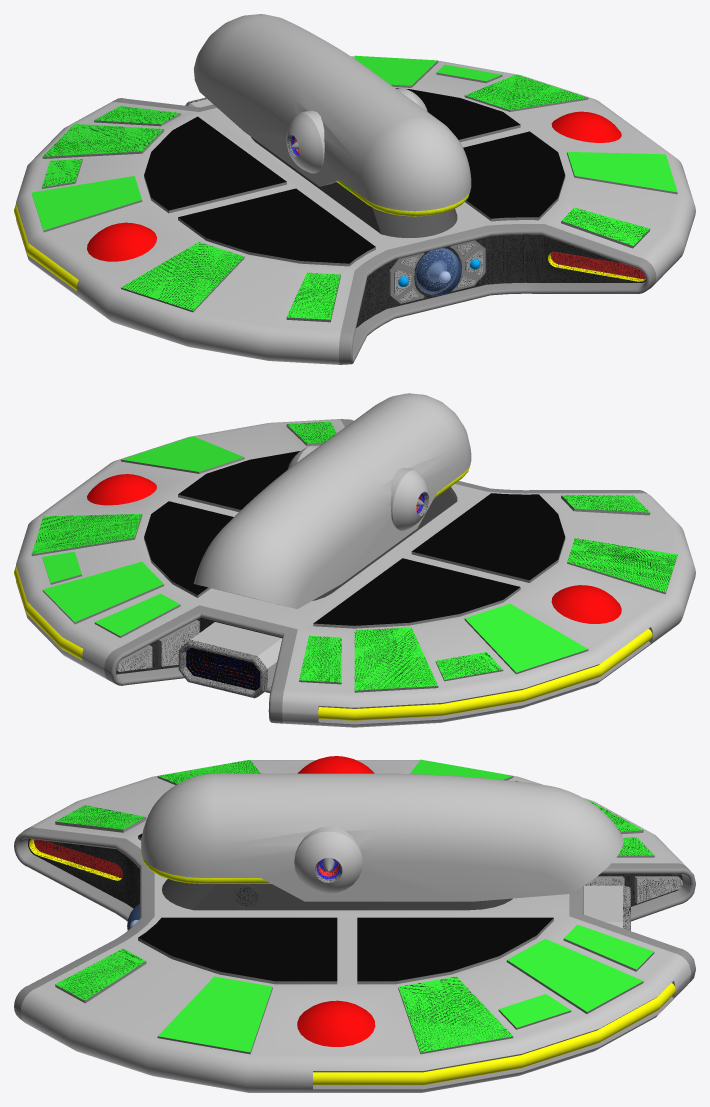
Rendered from greenAlien.dae.
3 views of the same model, one above another, from view 1: azimuth 30°, elevation 25°; view 2: azimuth 150°, elevation 25°; view 3: azimuth 270°, elevation 25° (orthographic). The views are drawn at different scales.
Visible parts, largest first — view 1: SketchUp (×30); view 2: SketchUp (×33); view 3: SketchUp (×28).
Boxes of the visible parts, left/top/right/bottom form: SketchUp (×30): left=14, top=14, right=695, bottom=364; SketchUp (×33): left=14, top=393, right=695, bottom=727; SketchUp (×28): left=14, top=756, right=695, bottom=1092.
Bounding box in the file's own units: 2735 × 2545 × 807.
